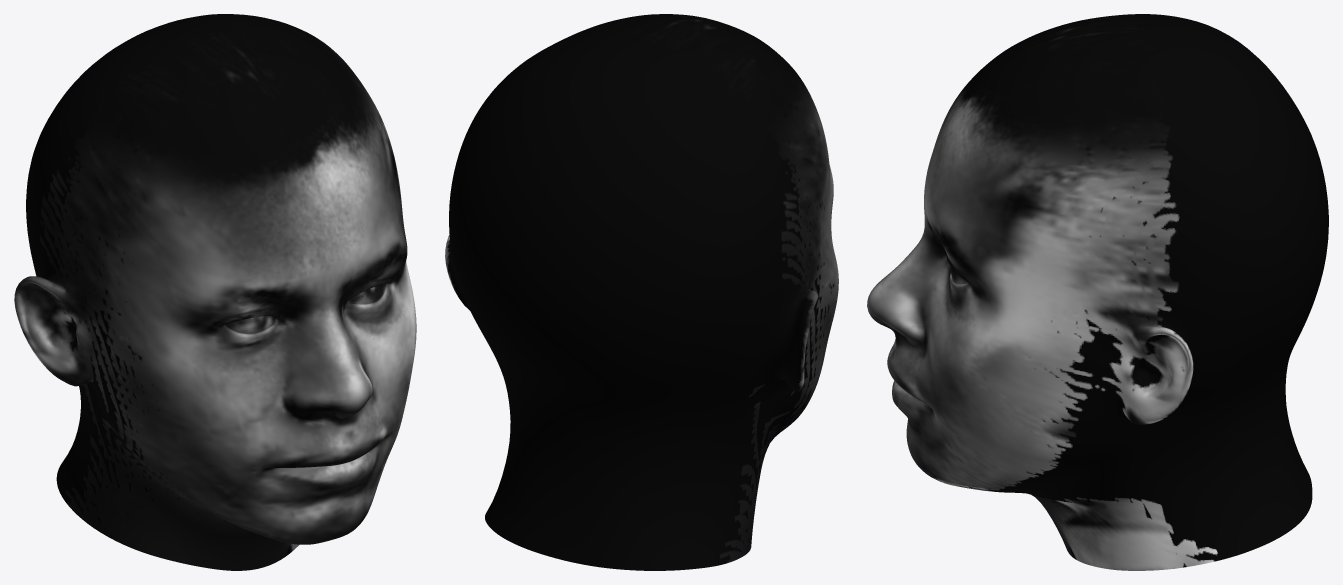
The model's file is shorter.glb.
The picture shows the model from 3 angles, left to right: view 1: azimuth 30°, elevation 25°; view 2: azimuth 150°, elevation 25°; view 3: azimuth 270°, elevation 25°; orthographic projection.
Parts seen in each view (by area): view 1: FBHead.009; view 2: FBHead.009; view 3: FBHead.009.
Boxes of the visible parts, <box> form: FBHead.009: <box>14,14,416,570</box>; FBHead.009: <box>445,14,838,570</box>; FBHead.009: <box>867,14,1328,570</box>.
Size of the model in its own units: 1.69 by 2.29 by 1.87.
Materials: 1 (1 with a texture image).
